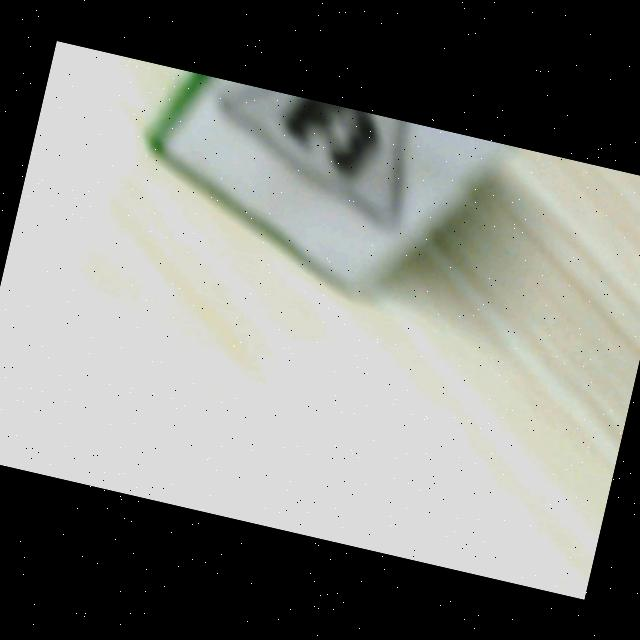Earthquake: (220, 86, 409, 226)
